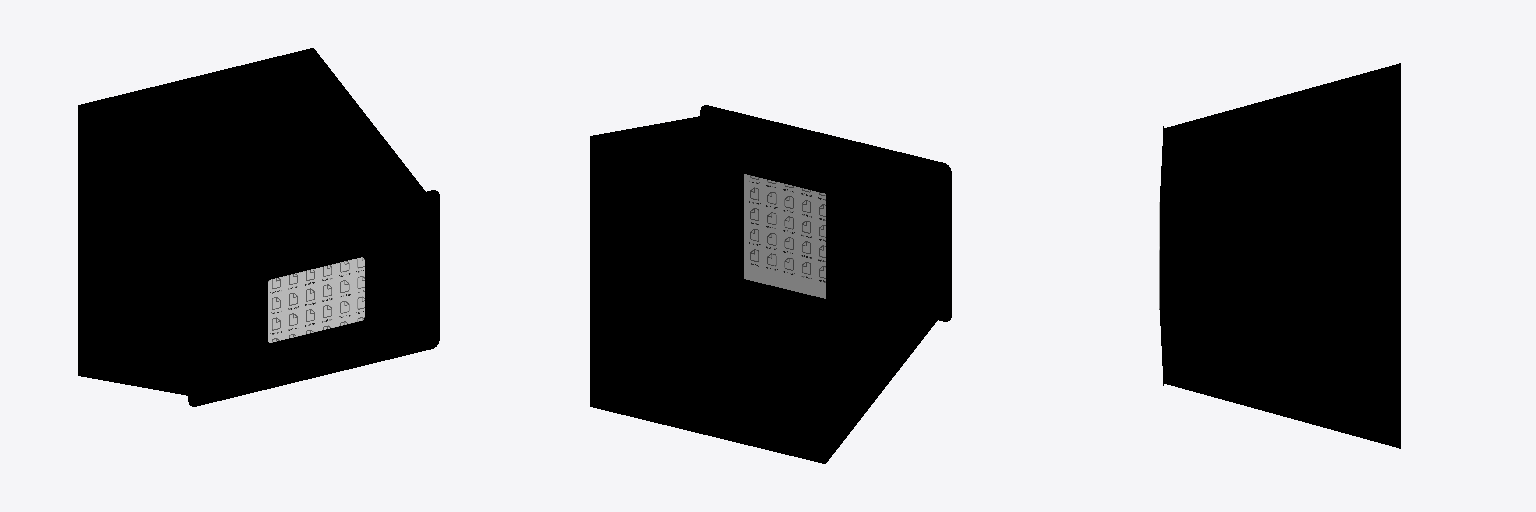
3 renders of one model, left to right at view 1: azimuth 30°, elevation 25°; view 2: azimuth 150°, elevation 25°; view 3: azimuth 270°, elevation 25°, orthographic.
Visible parts, largest first — view 1: Cube, Cube.001, Plane; view 2: Cube, Plane, Cube.001; view 3: Cube, Cube.001.
Boxes of the visible parts, x1=… form: Cube: x1=78, y1=48, x2=425, y2=396; Cube.001: x1=188, y1=190, x2=439, y2=406; Plane: x1=268, y1=258, x2=364, y2=342; Cube: x1=590, y1=115, x2=943, y2=463; Plane: x1=744, y1=174, x2=825, y2=298; Cube.001: x1=700, y1=105, x2=951, y2=321; Cube: x1=1164, y1=63, x2=1400, y2=448; Cube.001: x1=1159, y1=126, x2=1163, y2=385.
Bounding box in the file's own units: 8.31 × 8.54 × 6.92.
Materials: 3 (1 with a texture image).